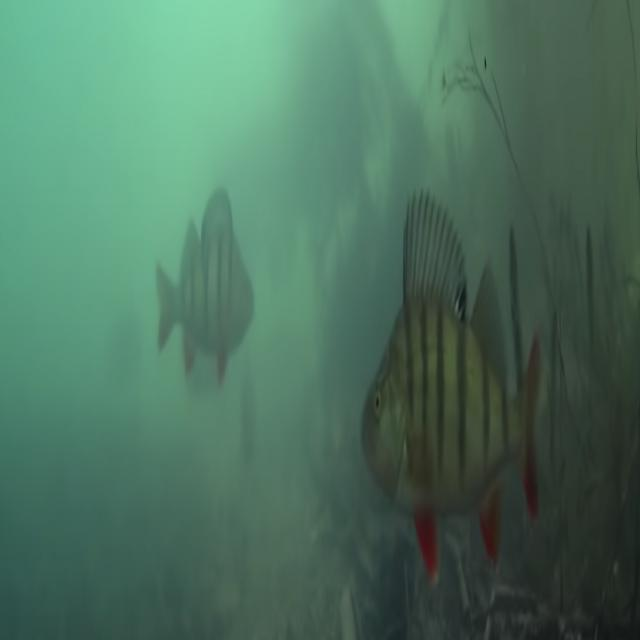fish: (0, 1, 640, 640)
